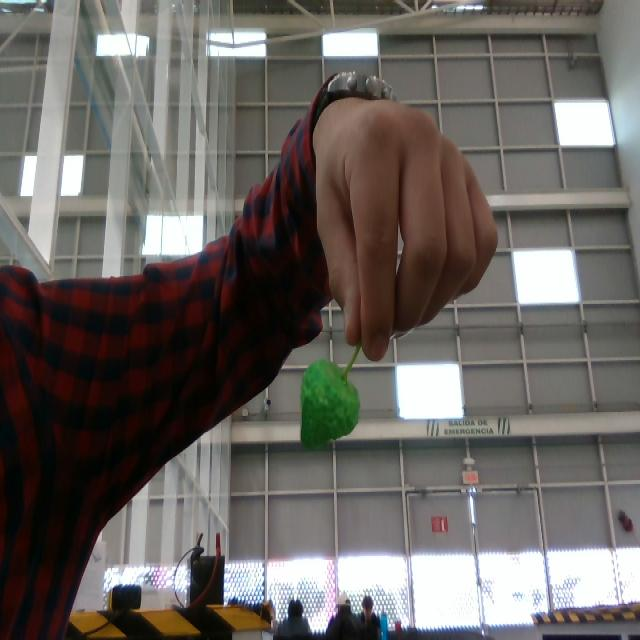verde: (299, 357, 362, 454)
